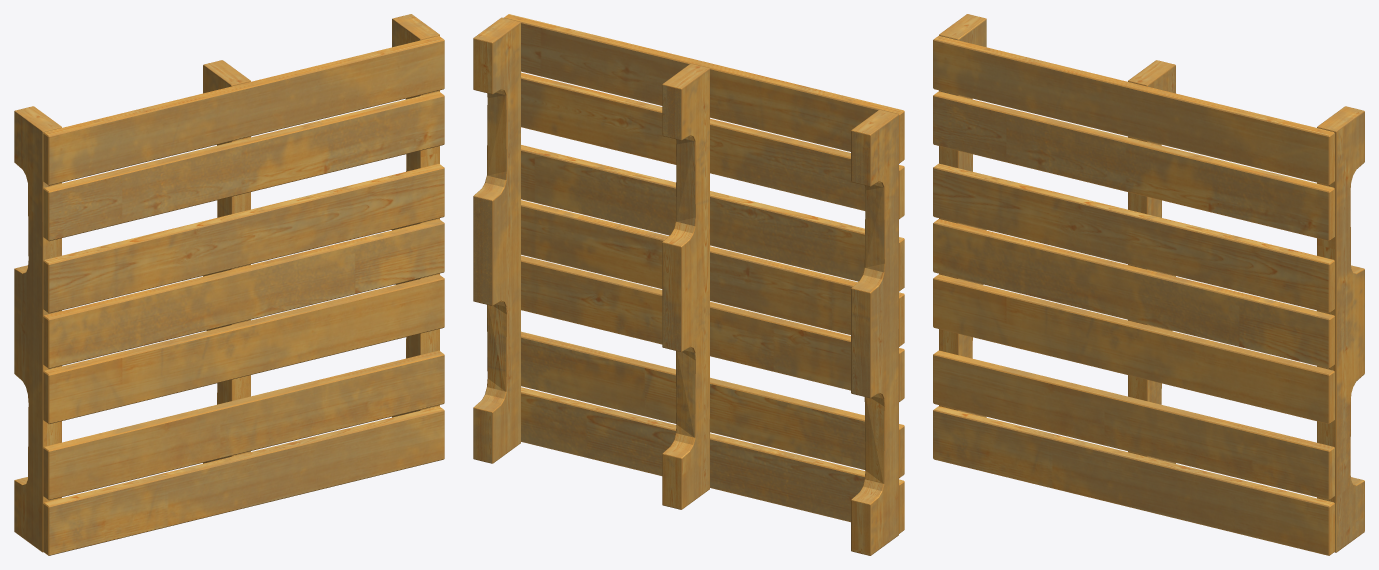
The model's file is palette.obj.
3 renders of one model, left to right at view 1: azimuth 30°, elevation 25°; view 2: azimuth 150°, elevation 25°; view 3: azimuth 330°, elevation 25°, orthographic.
Parts seen in each view (by area): view 1: Cardboard_box_on_palette_1; view 2: Cardboard_box_on_palette_1; view 3: Cardboard_box_on_palette_1.
Part boxes in pixels (x1=…): Cardboard_box_on_palette_1: x1=14, y1=14, x2=444, y2=555; Cardboard_box_on_palette_1: x1=473, y1=14, x2=904, y2=555; Cardboard_box_on_palette_1: x1=933, y1=14, x2=1364, y2=555.
Size of the model in its own units: 0.0802 by 0.0812 by 0.0121.
